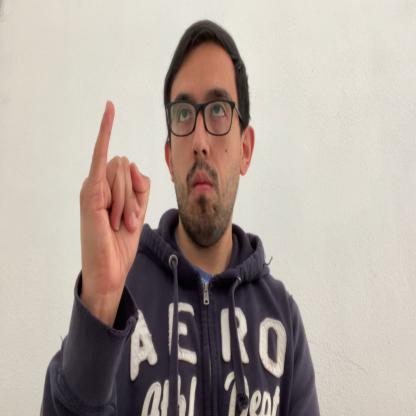I: (80, 100, 151, 288)
